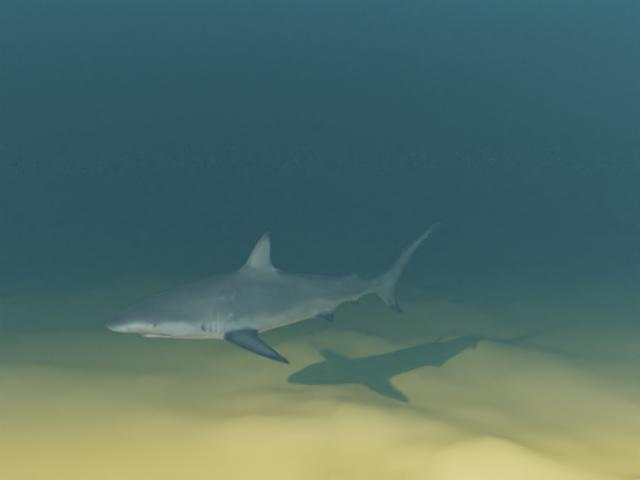Carribean Shark.001: (106, 222, 443, 364)
